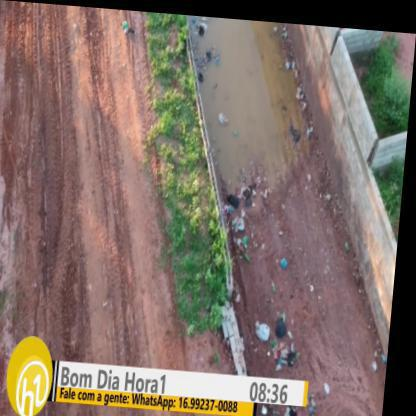agua: (208, 20, 303, 164)
